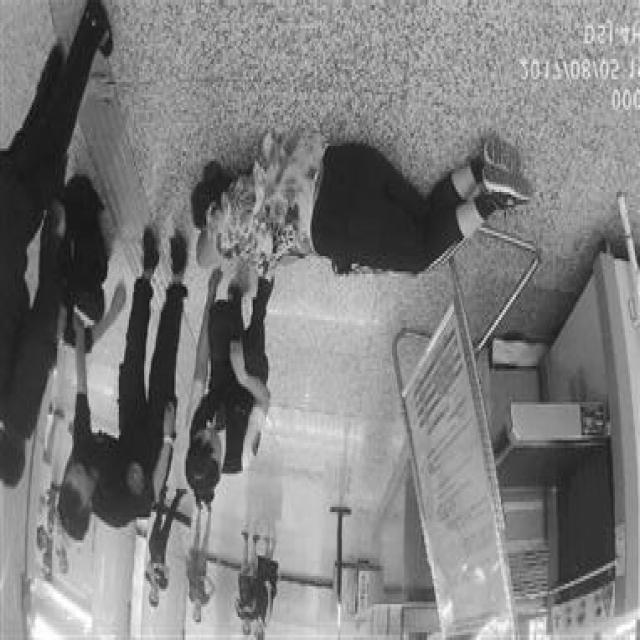nofight: (182, 116, 534, 268), (49, 232, 188, 544), (178, 286, 280, 492), (140, 483, 173, 617), (183, 509, 215, 623), (225, 536, 259, 629), (252, 526, 270, 637)
